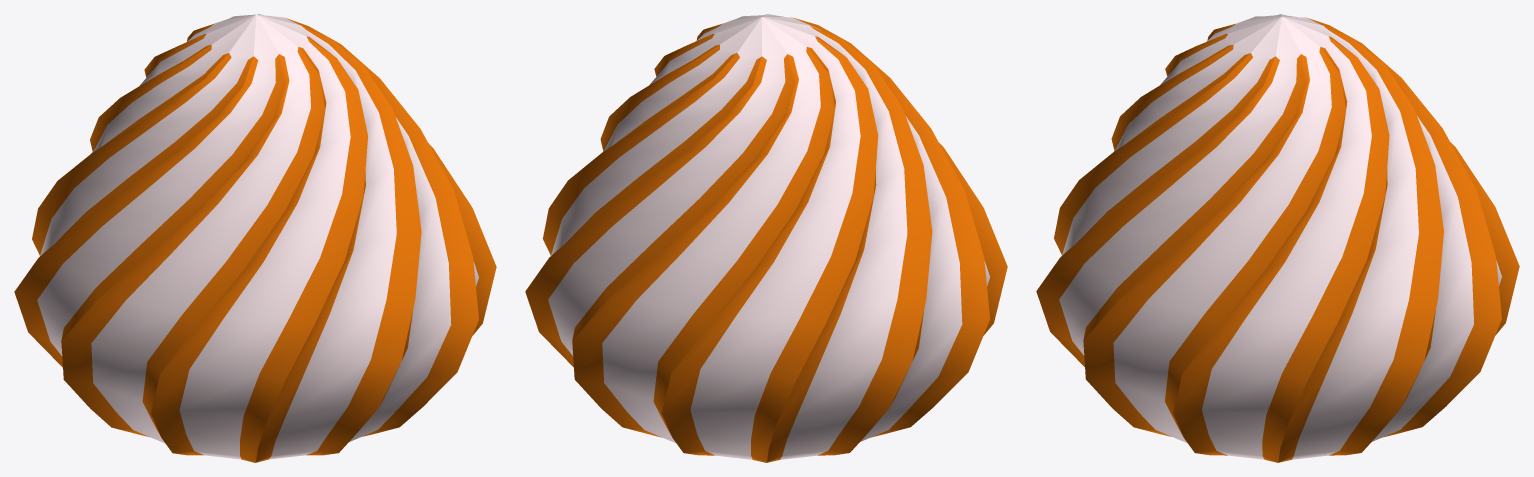
The model's file is Ice Cream Spiral B White Brown.fbx.
The picture shows the model from 3 angles, left to right: view 1: azimuth 30°, elevation 25°; view 2: azimuth 150°, elevation 25°; view 3: azimuth 270°, elevation 25°; orthographic projection.
Visible parts, largest first — view 1: Ice Cream Spiral B White Brown; view 2: Ice Cream Spiral B White Brown; view 3: Ice Cream Spiral B White Brown.
Boxes of the visible parts, <box> form: Ice Cream Spiral B White Brown: <box>14,14,496,462</box>; Ice Cream Spiral B White Brown: <box>525,14,1007,462</box>; Ice Cream Spiral B White Brown: <box>1036,14,1519,462</box>.
Bounding box in the file's own units: 0.4173 × 0.3732 × 0.4173.
